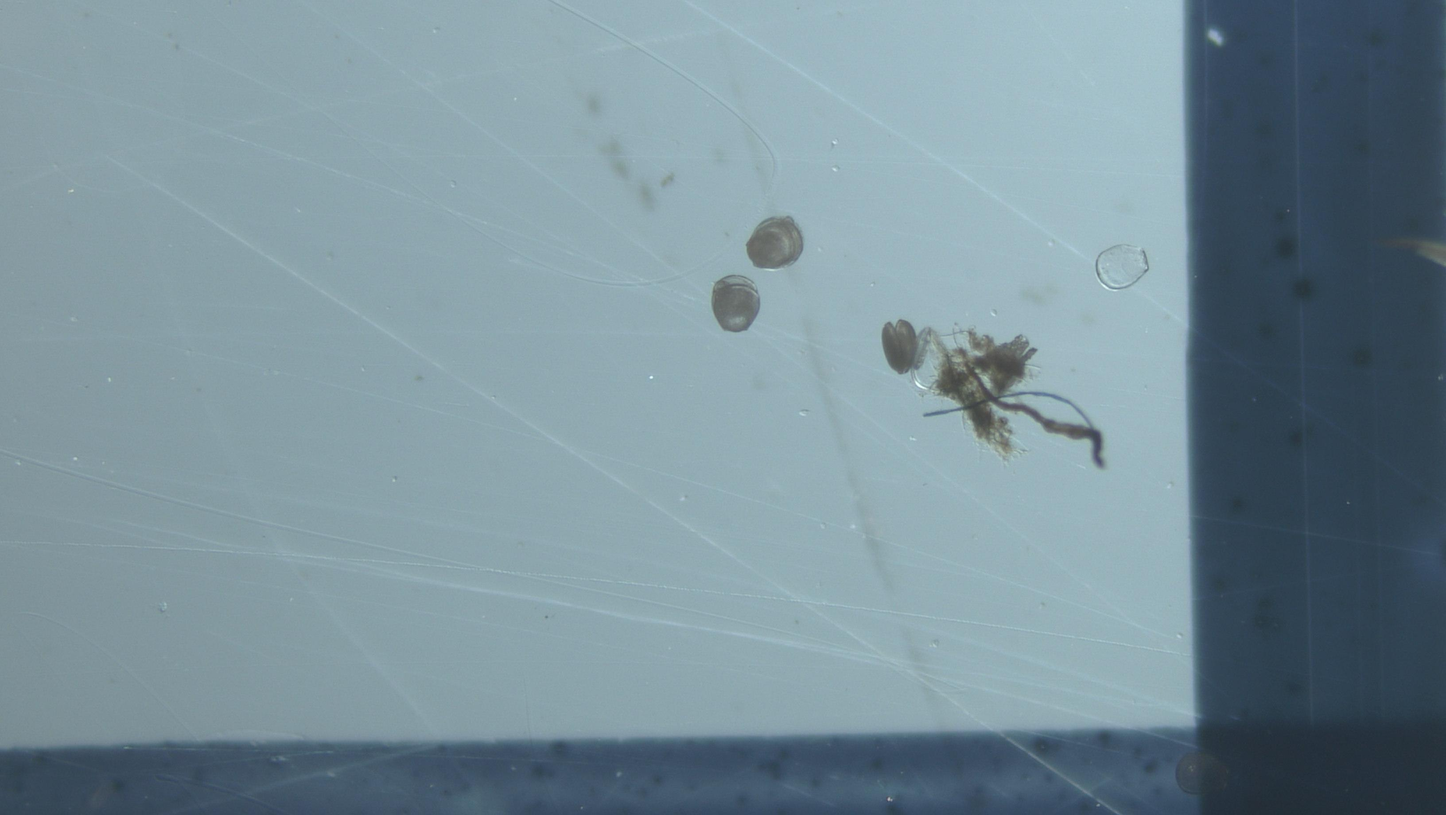dead: (1096, 244, 1150, 290), (911, 327, 946, 391)
live: (747, 217, 803, 269), (711, 276, 760, 332), (882, 320, 917, 374)
